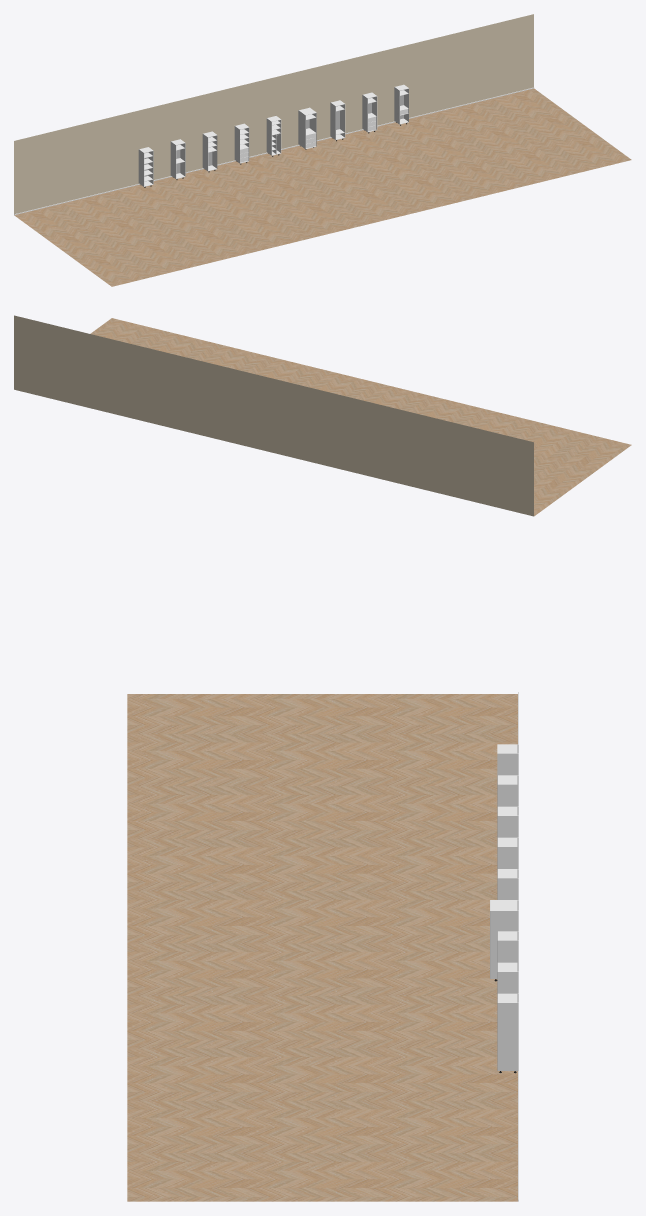
Rendered from modulesog.glb.
The picture shows the model from 3 angles, top to bottom: view 1: azimuth 30°, elevation 25°; view 2: azimuth 150°, elevation 25°; view 3: azimuth 270°, elevation 25°; orthographic projection. The views are drawn at different scales.
Visible parts, largest first — view 1: Ruimte, Module6, Ruimte.001, Module3, Module8, Module4, Module1, Module5, Module2, Module7, Module9; view 2: Ruimte; view 3: Ruimte, Module9, Module6.
Boxes of the visible parts, box(x1,y1,x2,y2) form: Ruimte: box(14, 14, 631, 286); Module6: box(298, 107, 316, 149); Ruimte.001: box(14, 87, 534, 215); Module3: box(202, 131, 217, 172); Module8: box(362, 92, 377, 133); Module4: box(234, 123, 249, 164); Module1: box(138, 147, 153, 187); Module5: box(266, 116, 281, 156); Module2: box(170, 139, 185, 179); Module7: box(330, 100, 345, 141); Module9: box(394, 84, 408, 125); Ruimte: box(14, 315, 631, 516); Ruimte: box(127, 694, 518, 1201); Module9: box(497, 993, 518, 1073); Module6: box(490, 900, 518, 981).
Size of the model in its own units: 32.56 by 4.44 by 10.62.
Materials: 6 (1 with a texture image).
